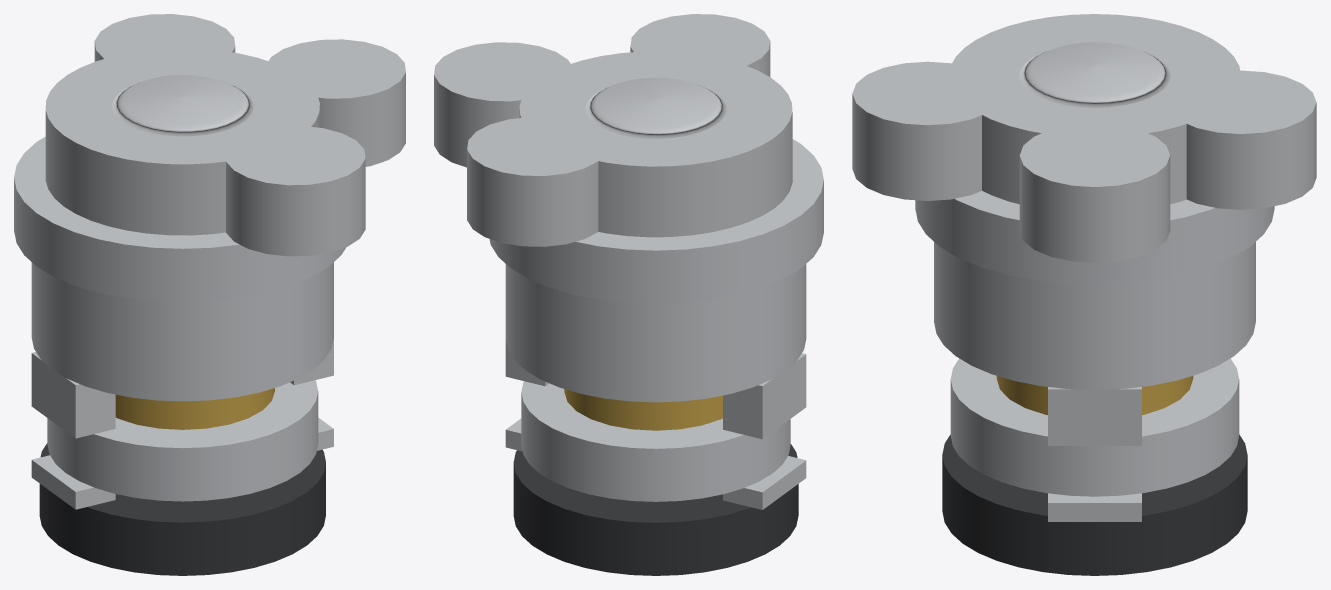
Rendered from oil-thermostat.glb.
3 views of the same model, side by side, from view 1: azimuth 30°, elevation 25°; view 2: azimuth 150°, elevation 25°; view 3: azimuth 270°, elevation 25° (orthographic). The views are drawn at different scales.
Parts seen in each view (by area): view 1: oil-thermostat:polishedSteel, oil-thermostat:machinedAlu, oil-thermostat:darkSteel, oil-thermostat:brass; view 2: oil-thermostat:polishedSteel, oil-thermostat:machinedAlu, oil-thermostat:darkSteel, oil-thermostat:brass; view 3: oil-thermostat:machinedAlu, oil-thermostat:polishedSteel, oil-thermostat:darkSteel, oil-thermostat:brass.
Part boxes in pixels (left/top/right/bottom): oil-thermostat:polishedSteel: left=14, top=136, right=346, bottom=509; oil-thermostat:machinedAlu: left=45, top=14, right=405, bottom=256; oil-thermostat:darkSteel: left=39, top=443, right=325, bottom=575; oil-thermostat:brass: left=115, top=388, right=274, bottom=429; oil-thermostat:polishedSteel: left=489, top=139, right=823, bottom=509; oil-thermostat:machinedAlu: left=434, top=14, right=792, bottom=246; oil-thermostat:darkSteel: left=513, top=444, right=798, bottom=575; oil-thermostat:brass: left=564, top=389, right=722, bottom=430; oil-thermostat:machinedAlu: left=852, top=14, right=1316, bottom=262; oil-thermostat:polishedSteel: left=915, top=191, right=1274, bottom=521; oil-thermostat:darkSteel: left=942, top=434, right=1247, bottom=575; oil-thermostat:brass: left=996, top=376, right=1193, bottom=415.
Size of the model in its own units: 42.4 by 47.05 by 44.4.
